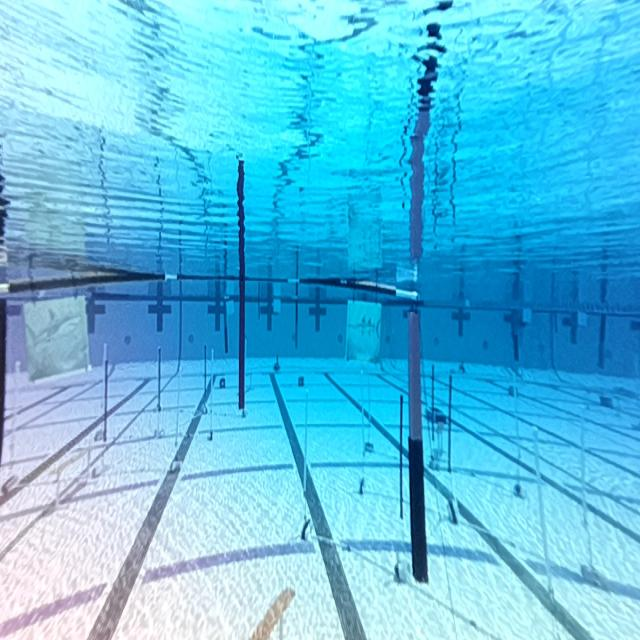pointed_nose: (349, 301, 384, 364)
round_nose: (28, 300, 87, 367)
